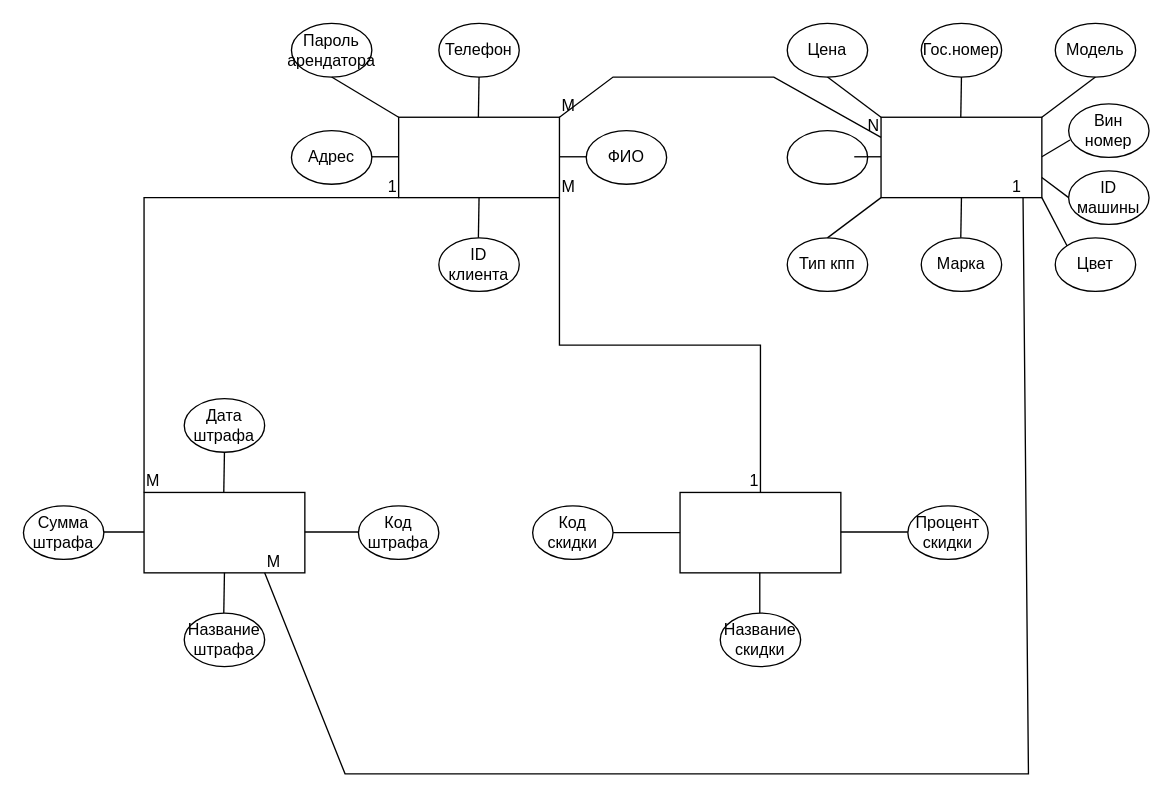
This 1173x799 diagram has some shape labels left out. Here are the shapes that lost their labels. From the top down, the centre of each, then its label:
At pixel 478 157: "Арендатор".
At pixel 827 156: "Год выпуска".
At pixel 961 157: "Автомобиль".
At pixel 224 532: "Штрафы".
At pixel 760 532: "Скидки".
